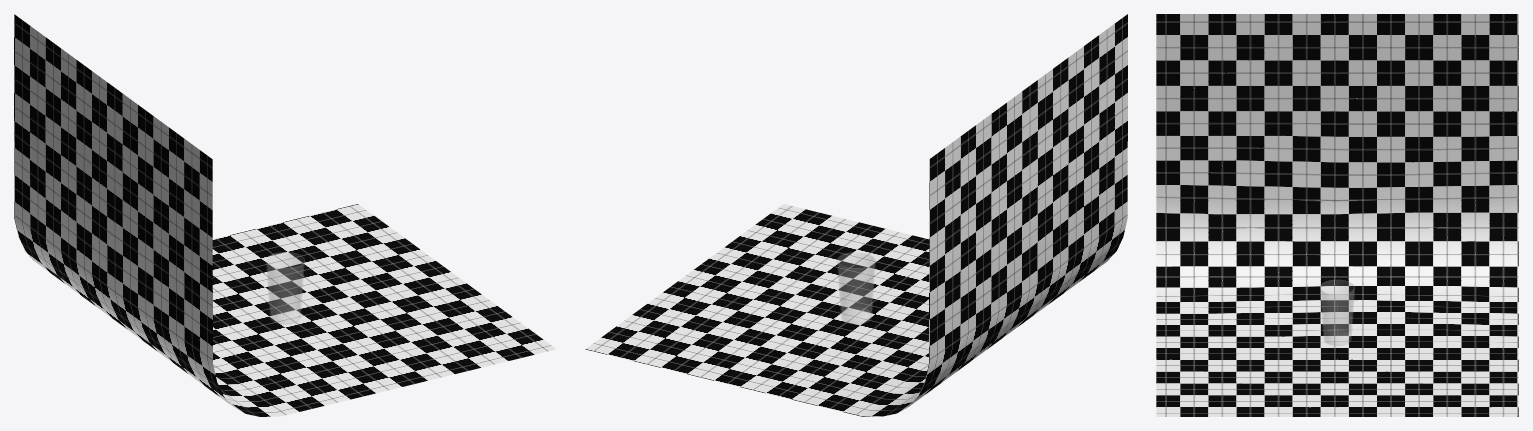
The model's file is Glass_DispersionTest-MH6zuNDa.gltf.
3 renders of one model, left to right at view 1: azimuth 30°, elevation 25°; view 2: azimuth 150°, elevation 25°; view 3: azimuth 270°, elevation 25°, orthographic. The views are drawn at different scales.
Visible parts, largest first — view 1: Plane, Cylinder; view 2: Plane, Cylinder; view 3: Plane, Cylinder.
Boxes of the visible parts, x1,y1,x2,y2 form: Plane: (14, 14, 556, 416); Cylinder: (266, 252, 304, 324); Plane: (585, 14, 1127, 416); Cylinder: (837, 252, 875, 324); Plane: (1156, 14, 1518, 416); Cylinder: (1320, 280, 1354, 345).
Bounding box in the file's own units: 3.33 × 2.53 × 3.33.
Materials: 2 (1 with a texture image).
